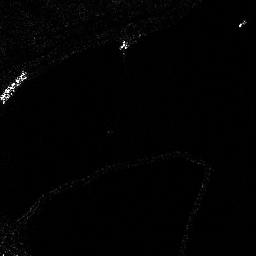ship: (1, 70, 26, 102)
